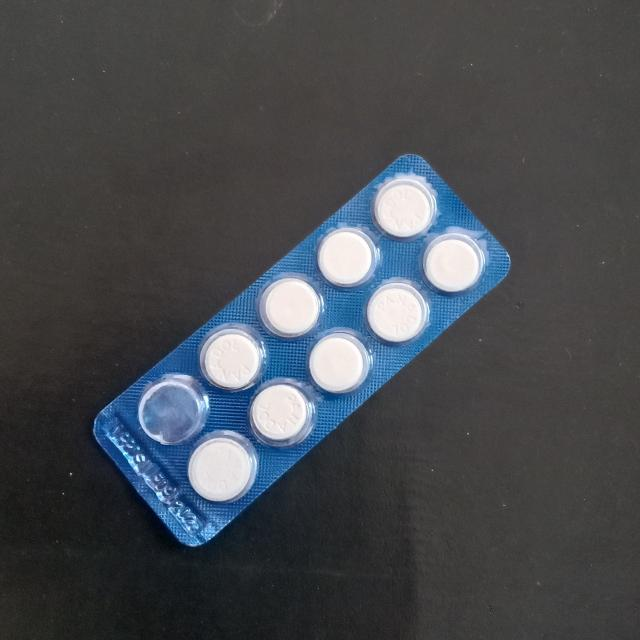defect: (136, 376, 204, 445)
